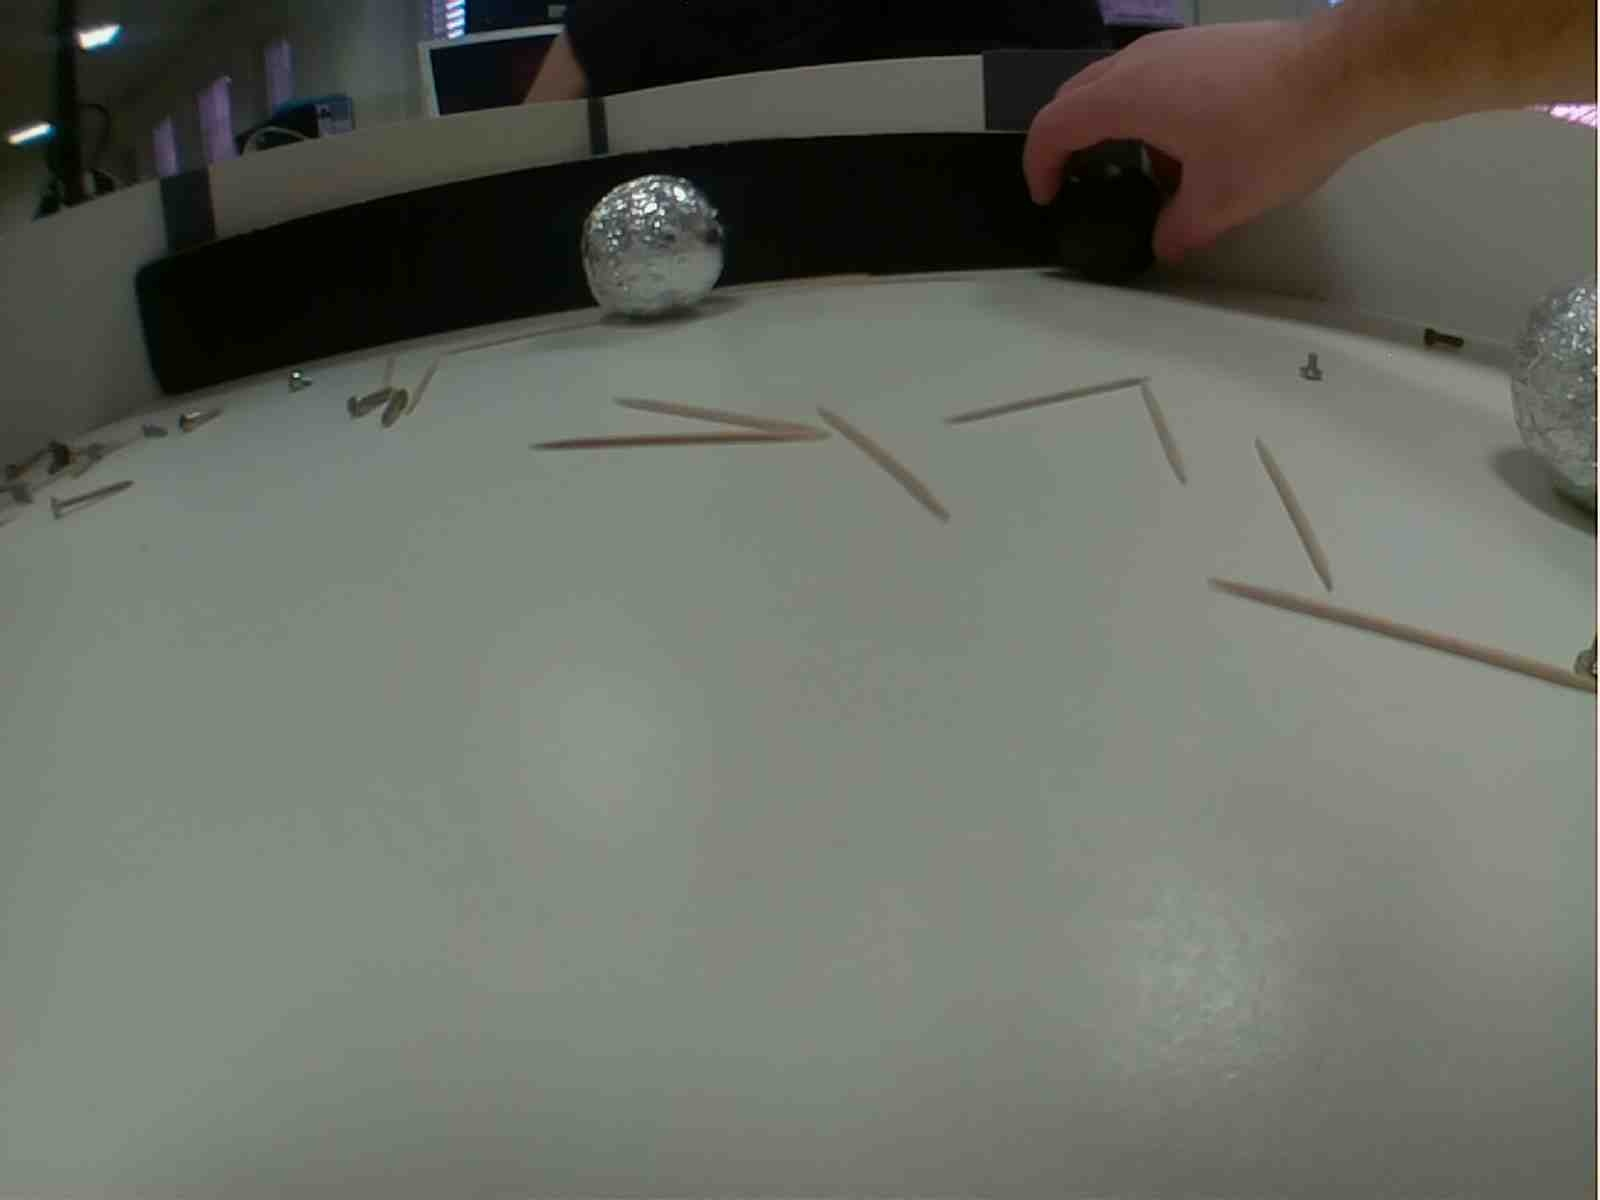bianca: (577, 169, 724, 321), (1511, 279, 1600, 524)
